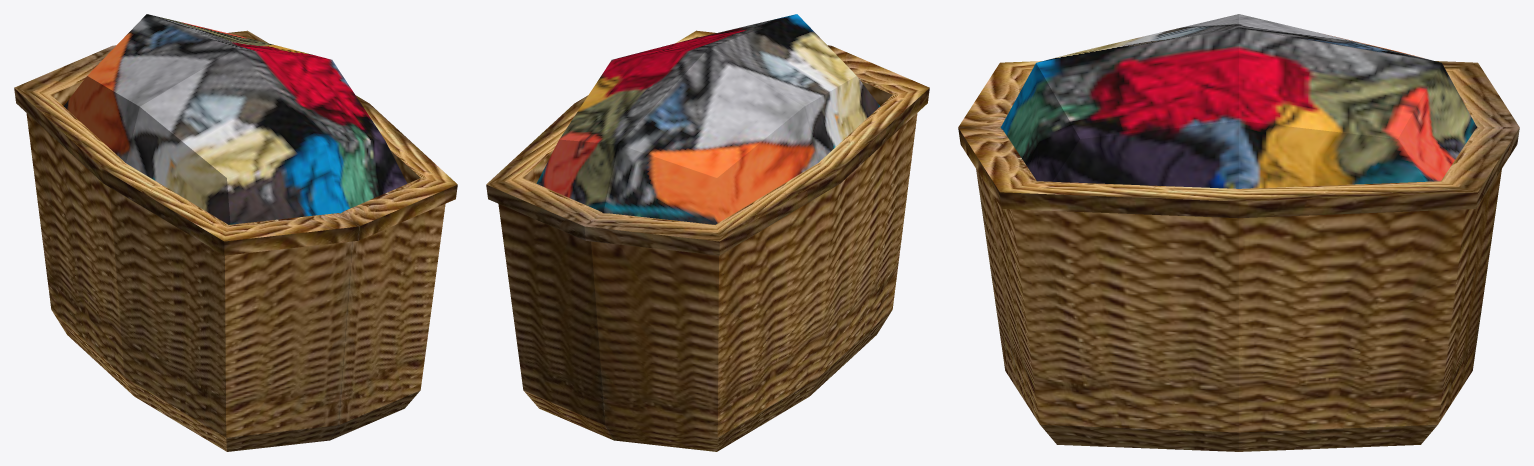
The model's file is ClothesBasket.fbx.
3 renders of one model, left to right at view 1: azimuth 30°, elevation 25°; view 2: azimuth 150°, elevation 25°; view 3: azimuth 270°, elevation 25°, orthographic. The views are drawn at different scales.
Visible parts, largest first — view 1: Cesto, Monton_ropa; view 2: Cesto, Monton_ropa; view 3: Cesto, Monton_ropa.
Boxes of the visible parts, x1=… form: Cesto: x1=14, y1=30, x2=457, y2=451; Monton_ropa: x1=63, y1=14, x2=407, y2=224; Cesto: x1=486, y1=30, x2=929, y2=451; Monton_ropa: x1=536, y1=14, x2=880, y2=224; Cesto: x1=958, y1=61, x2=1519, y2=451; Monton_ropa: x1=1000, y1=14, x2=1477, y2=188.
Bounding box in the file's own units: 1.24 × 1.98 × 1.43.
